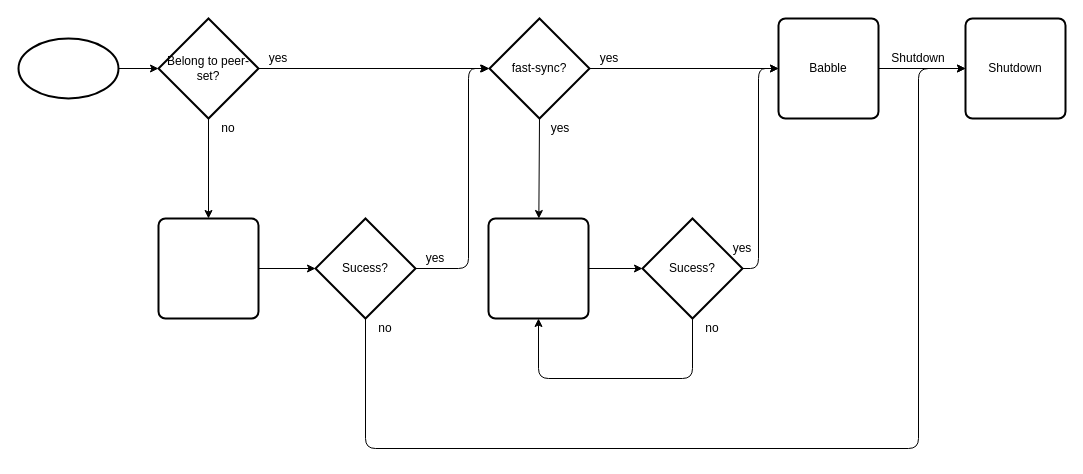
This 1083x474 diagram has some shape labels left out. Each missing label, with the centre of its shape:
"FastForward" goes at point 538,268.
"Init" goes at point 68,68.
"Join" goes at point 208,268.
